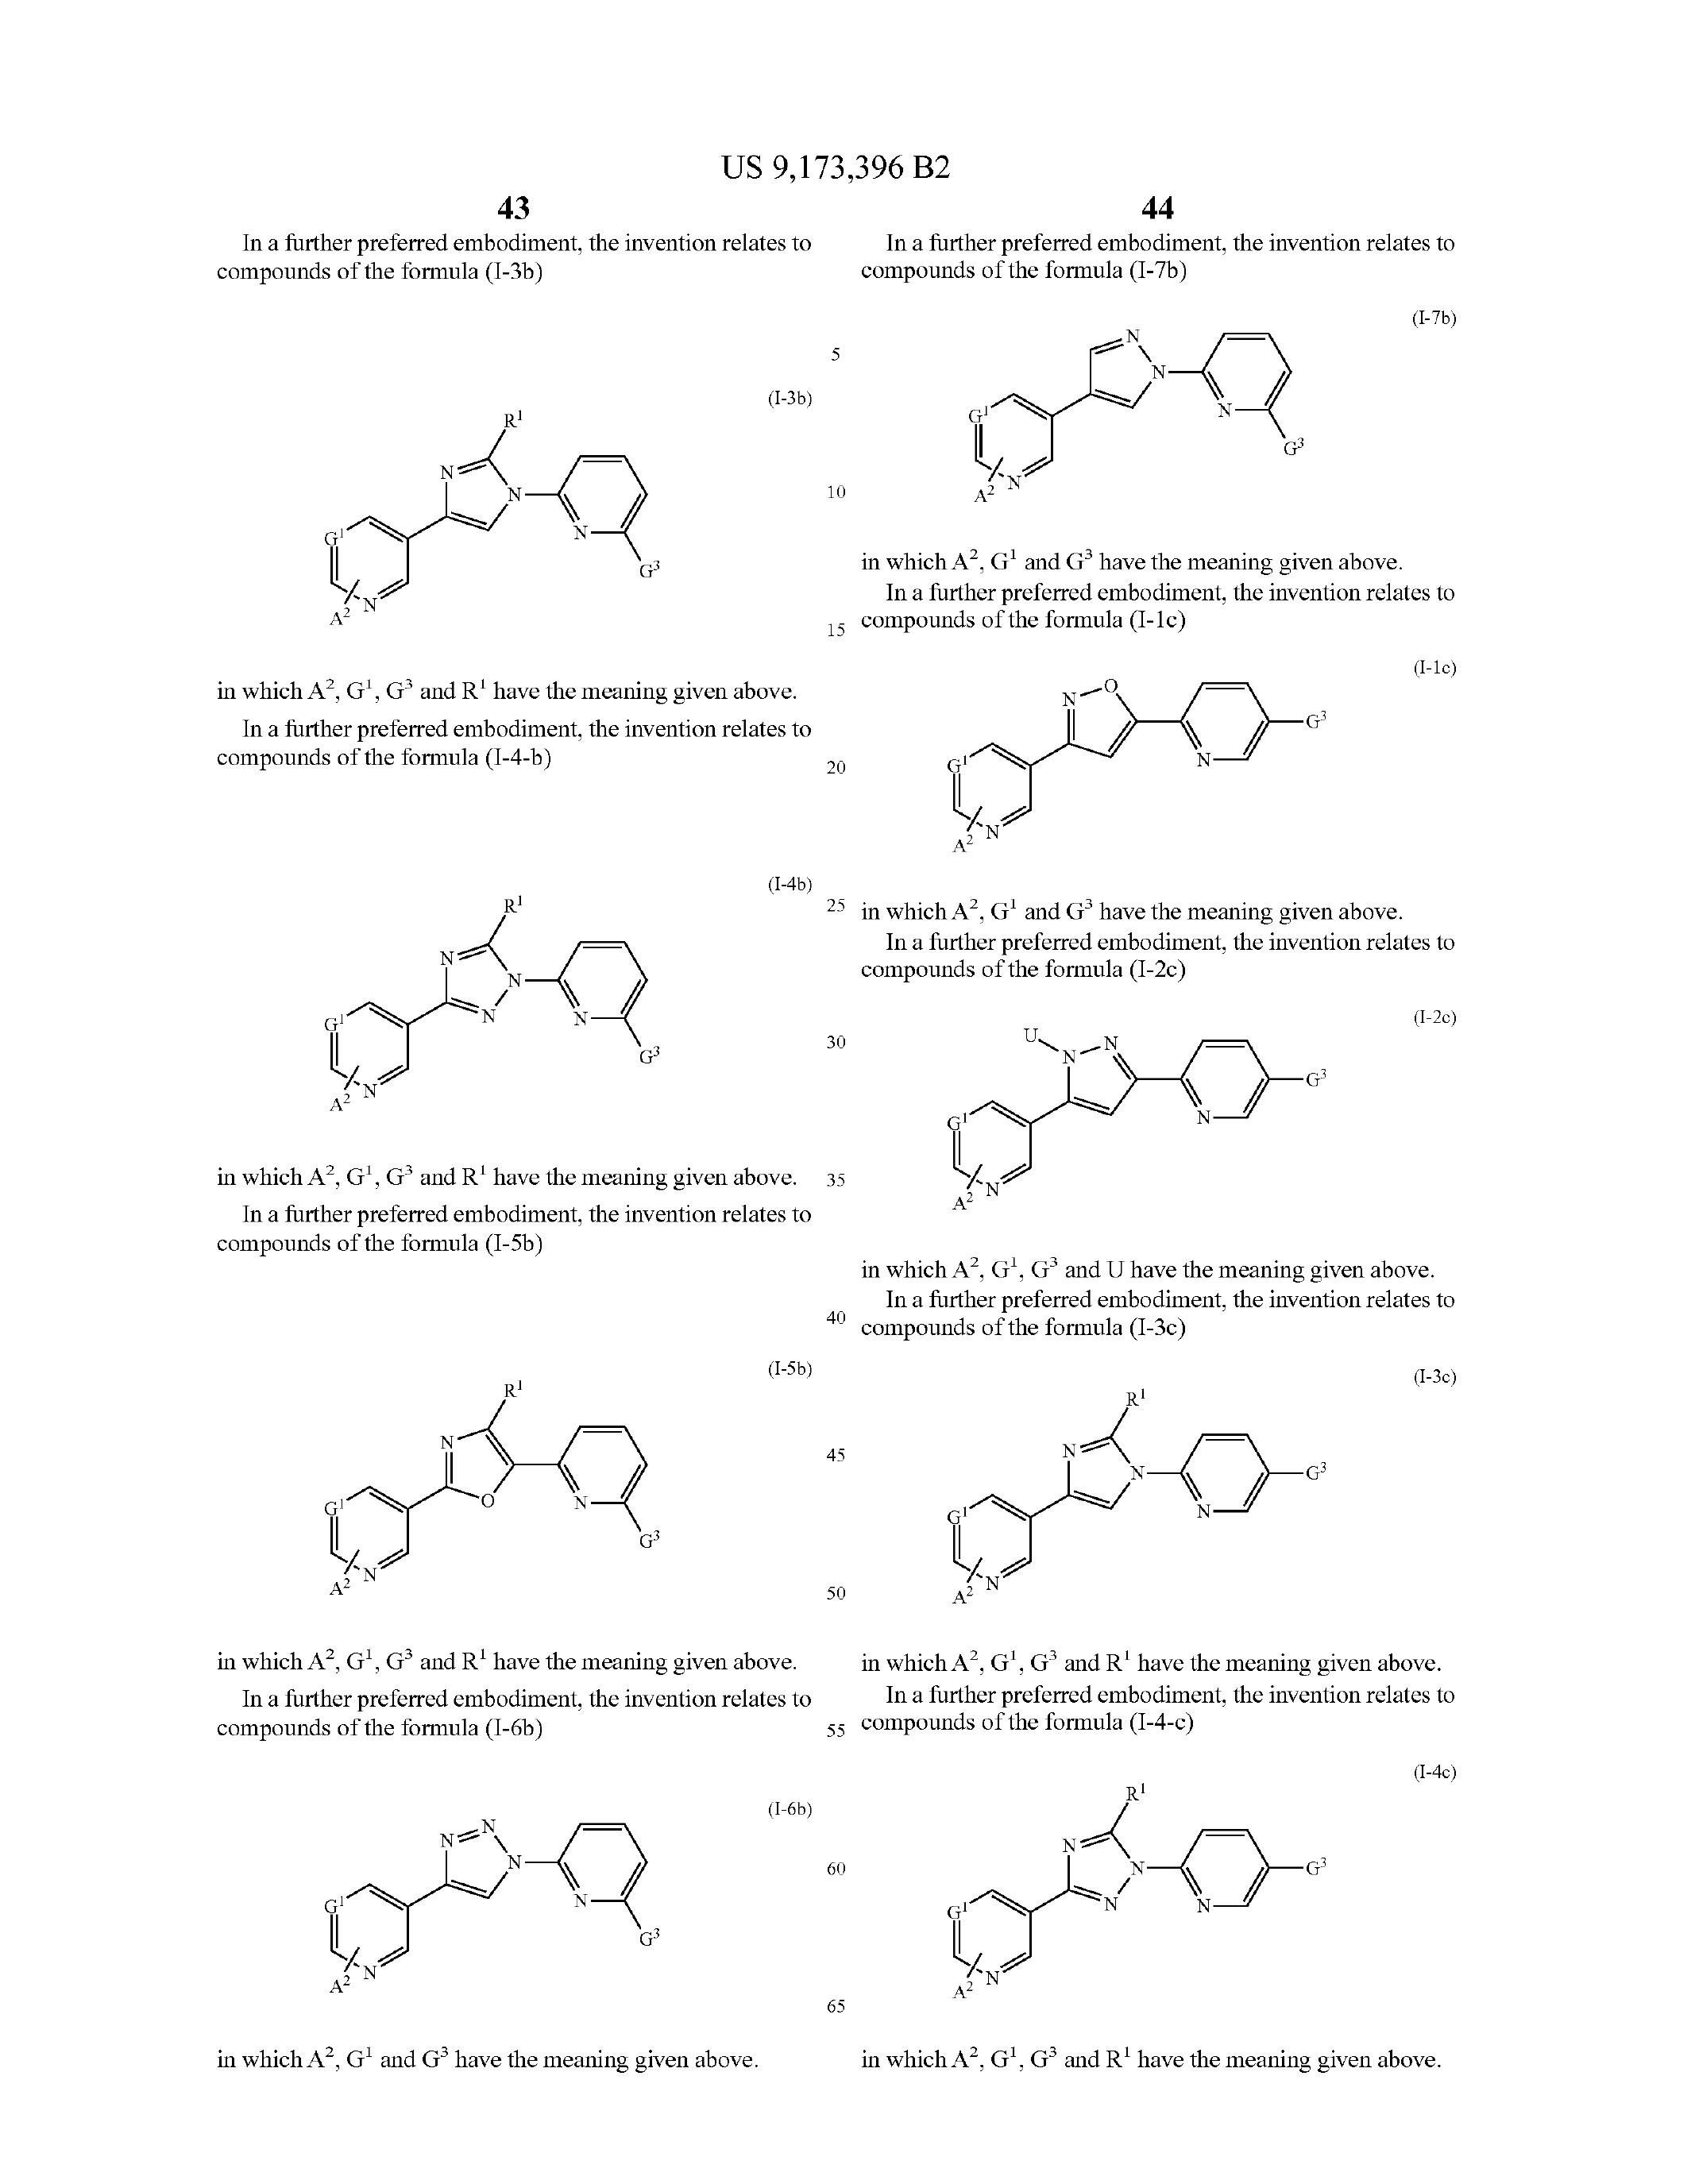substitutes: (878, 633, 1342, 849)
